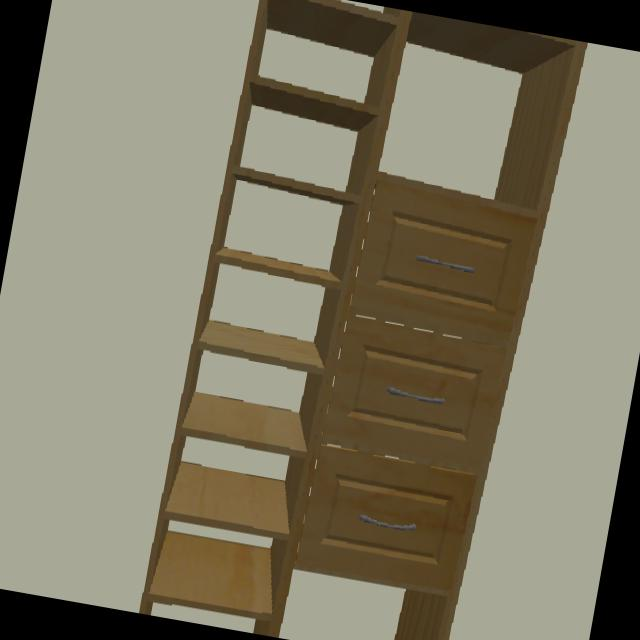cabinet: (292, 172, 538, 640)
shelf: (138, 0, 412, 637)
